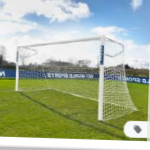goals: (14, 34, 139, 120)
